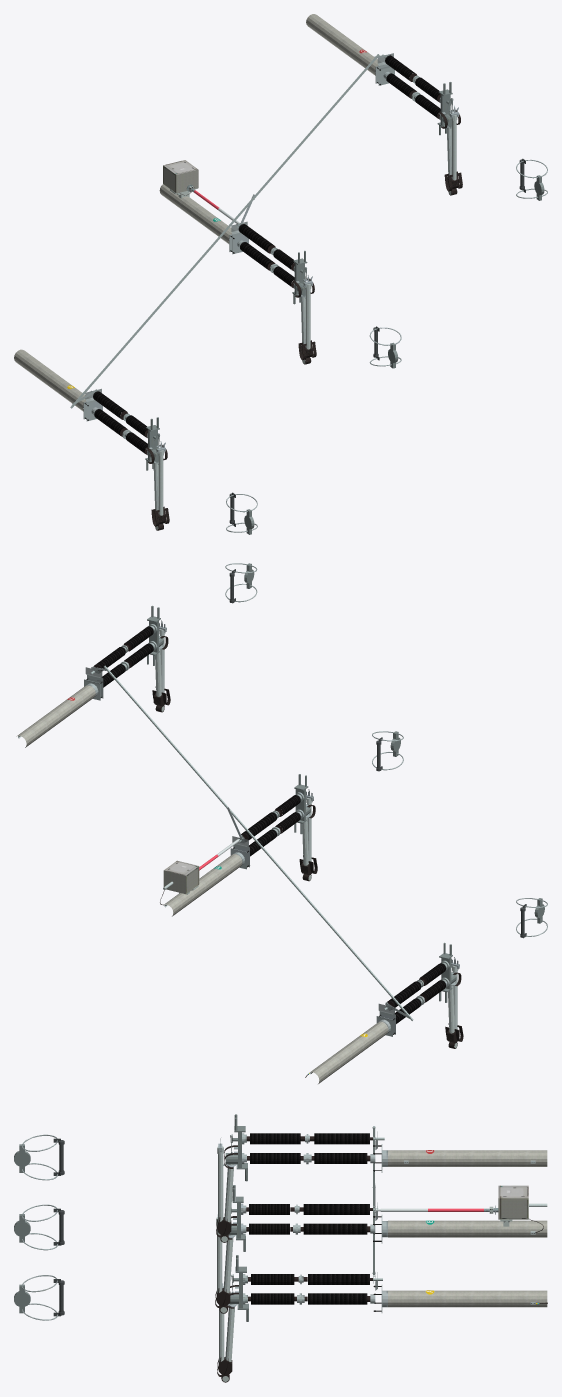
File: glkg-11m00000000620251-geode.glb
3 views of the same model, one above another, from view 1: azimuth 30°, elevation 25°; view 2: azimuth 150°, elevation 25°; view 3: azimuth 270°, elevation 25° (orthographic). The views are drawn at different scales.
Parts seen in each view (by area): view 1: Node; view 2: Node; view 3: Node.
Part boxes in pixels (<box>): Node: <box>14,14,547,534</box>; Node: <box>16,563,547,1083</box>; Node: <box>14,1114,547,1382</box>.
Bounding box in the file's own units: 7.88 × 8.49 × 9.57.
Materials: 19 (19 with a texture image).
